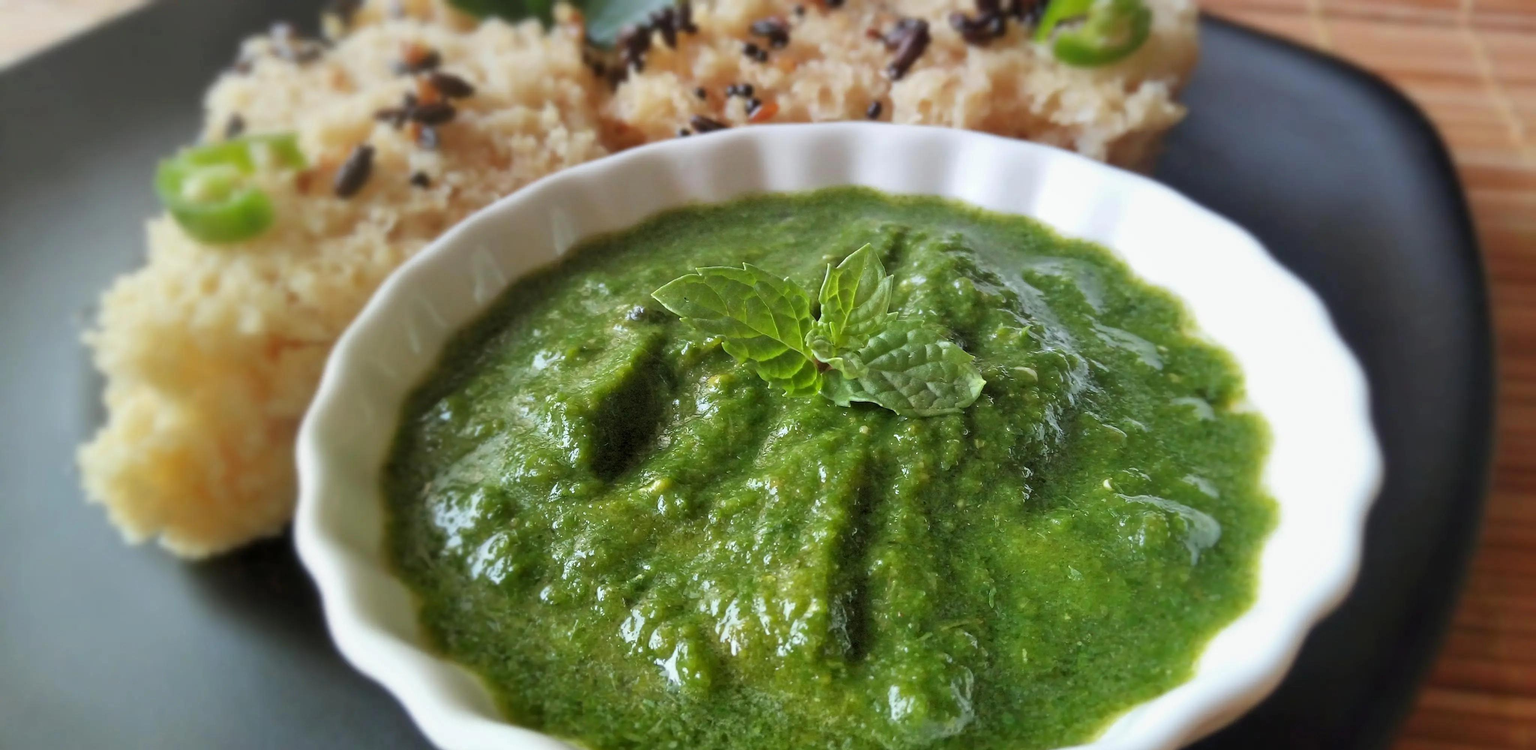GreenChutney: (383, 185, 1276, 750)
